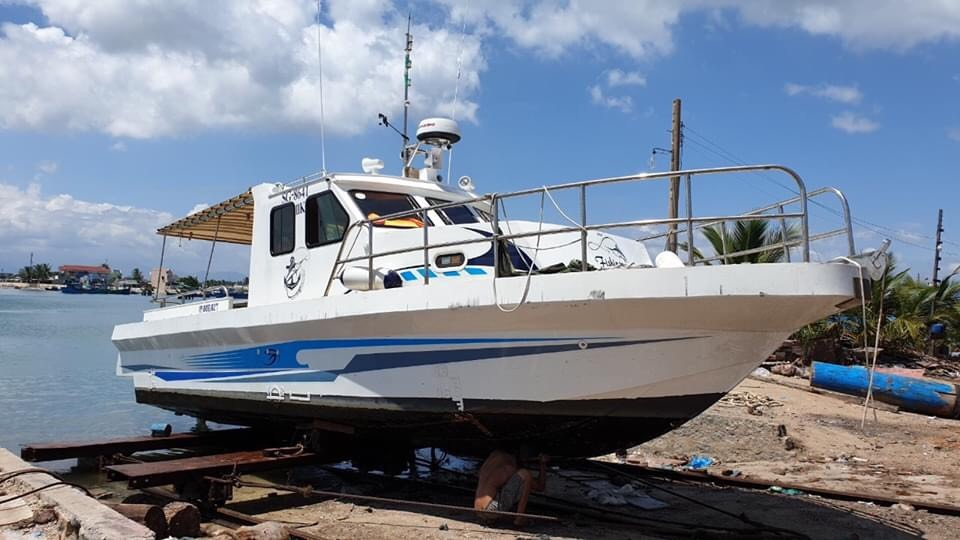tau_dansu: (125, 159, 933, 459)
